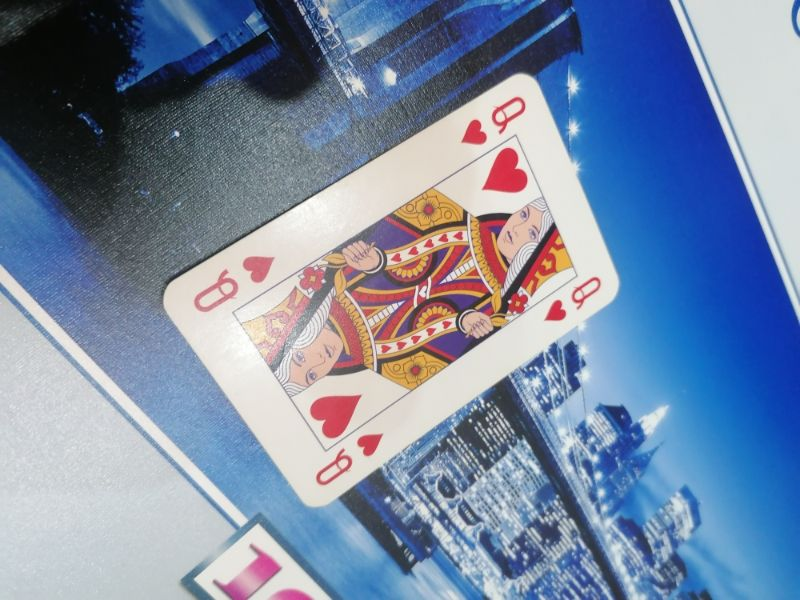Qh: (190, 246, 281, 317), (314, 428, 387, 489), (456, 90, 530, 150), (541, 272, 604, 328)
